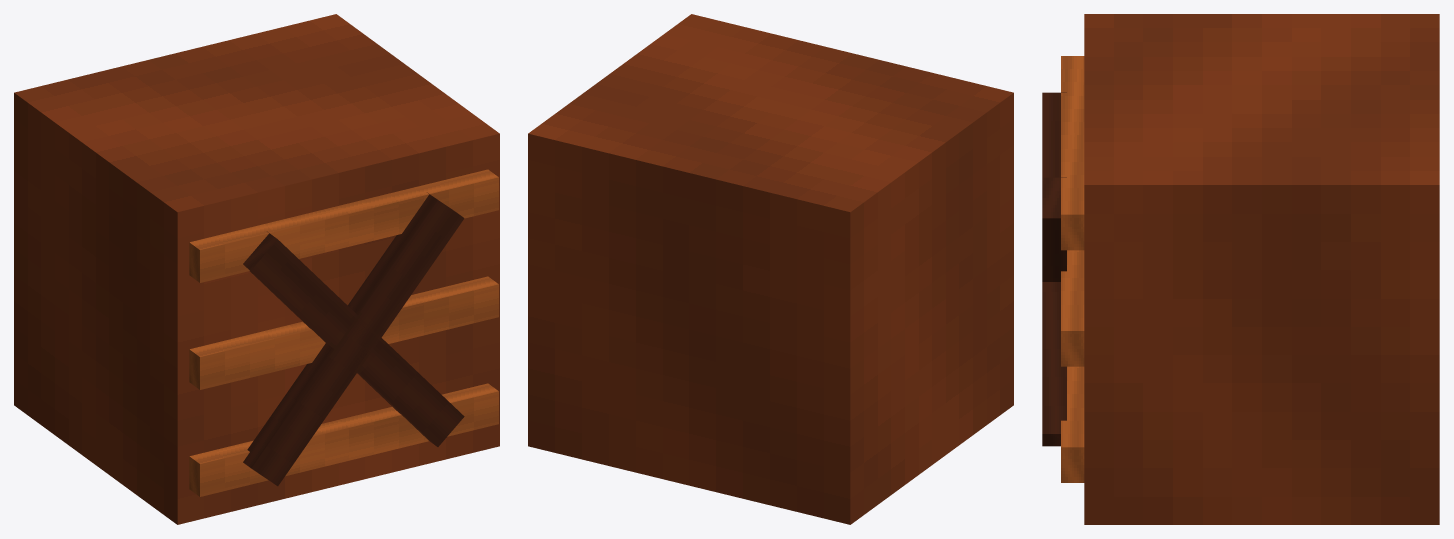
Rendered from bp_decorcrate.glb.
3 renders of one model, left to right at view 1: azimuth 30°, elevation 25°; view 2: azimuth 150°, elevation 25°; view 3: azimuth 270°, elevation 25°, orthographic. The views are drawn at different scales.
Visible parts, largest first — view 1: Crate, Brace.001, Plank.002, Brace.002, Plank.001, Plank; view 2: Crate; view 3: Crate, Brace.002, Plank.002, Plank.001, Plank, Brace.001.
Boxes of the visible parts, x1,y1,x2,y2 form: Crate: [14, 14, 499, 524]; Brace.001: [243, 192, 464, 486]; Plank.002: [189, 169, 498, 282]; Brace.002: [243, 231, 464, 446]; Plank.001: [189, 276, 498, 389]; Plank: [189, 383, 498, 496]; Crate: [528, 14, 1013, 524]; Crate: [1084, 14, 1439, 524]; Brace.002: [1042, 92, 1066, 446]; Plank.002: [1061, 56, 1084, 250]; Plank.001: [1061, 250, 1084, 366]; Plank: [1061, 366, 1084, 482]; Brace.001: [1042, 177, 1066, 281].
Bounding box in the file's own units: 0.82 × 0.76 × 0.805.
Materials: 3 (3 with a texture image).
